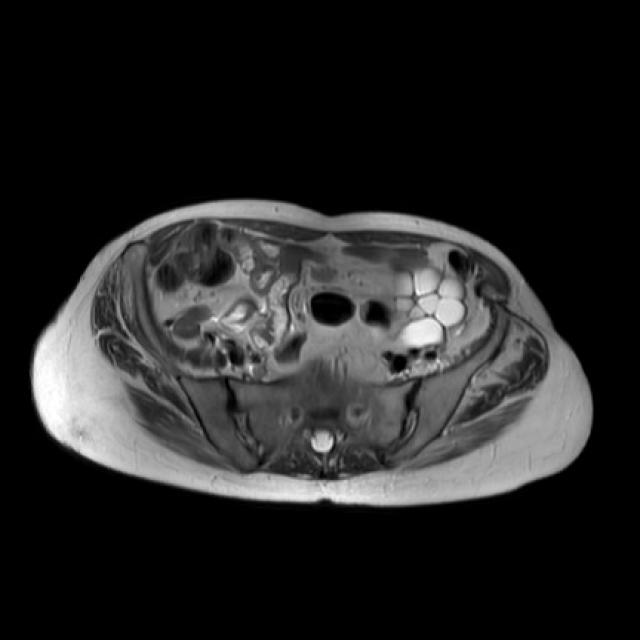sol: (395, 267, 465, 346)
